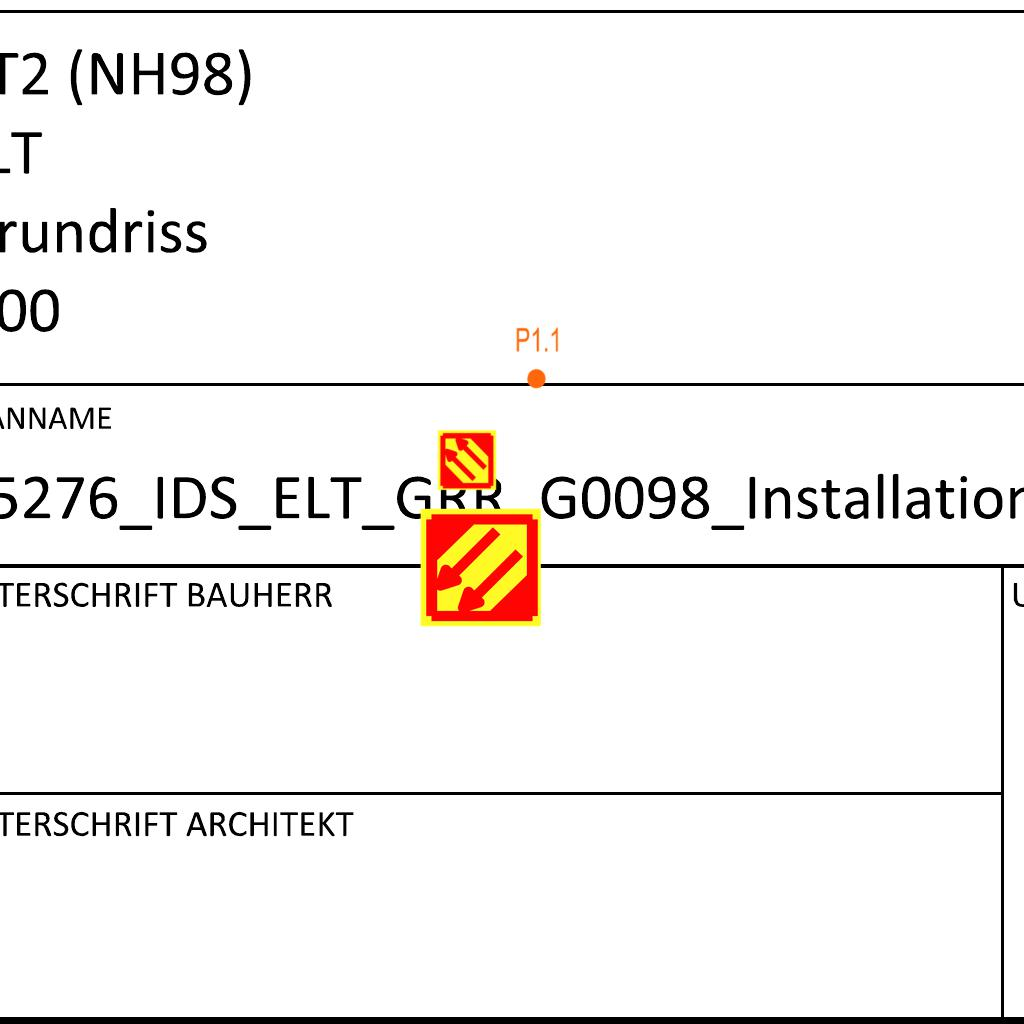ASR_Ansaugrauchmelder: (418, 505, 543, 630), (436, 429, 498, 491)
Downlight_LED_Einbauleuchten_Flur: (515, 326, 561, 390)
